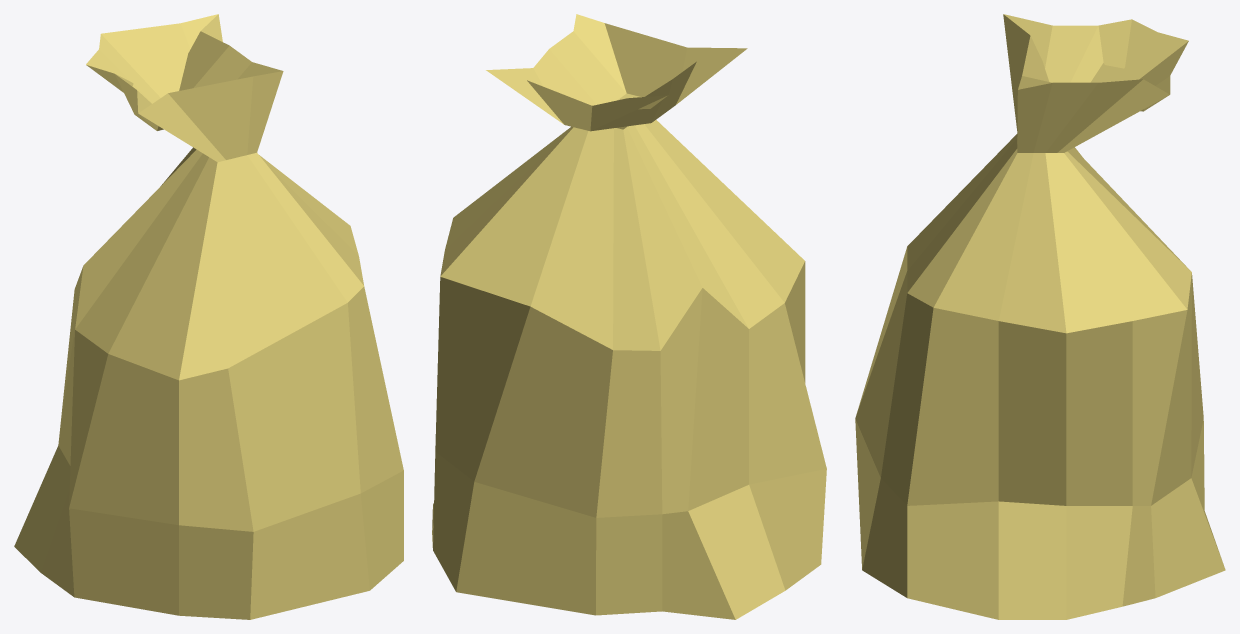
Rendered from elvilmetal.fbx.
3 renders of one model, left to right at view 1: azimuth 30°, elevation 25°; view 2: azimuth 150°, elevation 25°; view 3: azimuth 270°, elevation 25°, orthographic. The views are drawn at different scales.
Visible parts, largest first — view 1: Cube; view 2: Cube; view 3: Cube.
Part boxes in pixels (left/top/right/bottom): Cube: left=14, top=14, right=403, bottom=619; Cube: left=432, top=14, right=826, bottom=619; Cube: left=855, top=14, right=1225, bottom=619.
Size of the model in its own units: 297 by 399 by 280.
